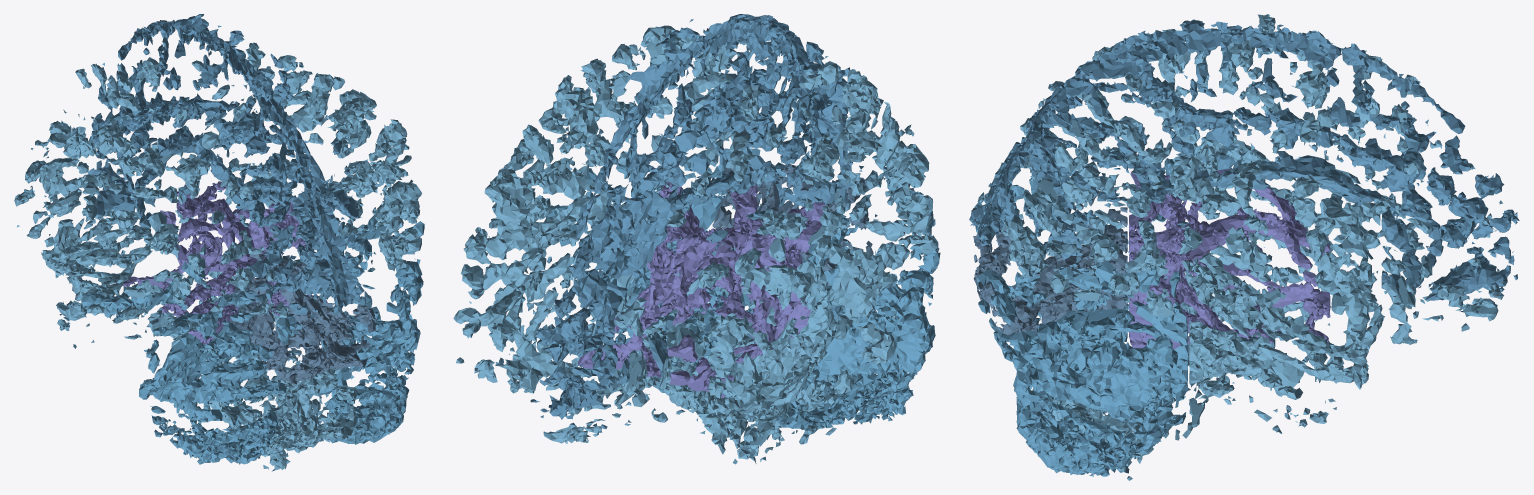
File: venat_veins.glb
The picture shows the model from 3 angles, left to right: view 1: azimuth 30°, elevation 25°; view 2: azimuth 150°, elevation 25°; view 3: azimuth 270°, elevation 25°; orthographic projection. The views are drawn at different scales.
Parts seen in each view (by area): view 1: Superior sagittal sinus and parasagittal bridging veins (VEN, Left superficial cortical and Sylvian veins (VENAT 7T), Right superficial cortical and Sylvian veins (VENAT 7T), Left transverse and sigmoid sinus (VENAT 7T), Right transverse and sigmoid sinus (VENAT 7T), Deep cerebral venous system — internal cerebral, Rosenthal &, Straight sinus and torcular Herophili (VENAT 7T); view 2: Left superficial cortical and Sylvian veins (VENAT 7T), Superior sagittal sinus and parasagittal bridging veins (VEN, Right superficial cortical and Sylvian veins (VENAT 7T), Deep cerebral venous system — internal cerebral, Rosenthal &, Left transverse and sigmoid sinus (VENAT 7T), Right transverse and sigmoid sinus (VENAT 7T), Straight sinus and torcular Herophili (VENAT 7T); view 3: Right superficial cortical and Sylvian veins (VENAT 7T), Superior sagittal sinus and parasagittal bridging veins (VEN, Right transverse and sigmoid sinus (VENAT 7T), Left superficial cortical and Sylvian veins (VENAT 7T), Deep cerebral venous system — internal cerebral, Rosenthal &, Straight sinus and torcular Herophili (VENAT 7T), Left transverse and sigmoid sinus (VENAT 7T).
Boxes of the visible parts, x1,y1,x2,y2 form: Superior sagittal sinus and parasagittal bridging veins (VEN: (58, 14, 372, 329); Left superficial cortical and Sylvian veins (VENAT 7T): (14, 57, 317, 469); Right superficial cortical and Sylvian veins (VENAT 7T): (111, 42, 421, 471); Left transverse and sigmoid sinus (VENAT 7T): (81, 261, 298, 464); Right transverse and sigmoid sinus (VENAT 7T): (286, 214, 424, 444); Deep cerebral venous system — internal cerebral, Rosenthal &: (123, 176, 327, 344); Straight sinus and torcular Herophili (VENAT 7T): (230, 237, 377, 386); Left superficial cortical and Sylvian veins (VENAT 7T): (564, 61, 937, 461); Superior sagittal sinus and parasagittal bridging veins (VEN: (499, 14, 889, 429); Right superficial cortical and Sylvian veins (VENAT 7T): (453, 25, 782, 464); Deep cerebral venous system — internal cerebral, Rosenthal &: (578, 182, 824, 397); Left transverse and sigmoid sinus (VENAT 7T): (775, 172, 940, 429); Right transverse and sigmoid sinus (VENAT 7T): (543, 148, 786, 395); Straight sinus and torcular Herophili (VENAT 7T): (712, 164, 885, 288); Right superficial cortical and Sylvian veins (VENAT 7T): (1001, 83, 1503, 480); Superior sagittal sinus and parasagittal bridging veins (VEN: (969, 19, 1519, 303); Right transverse and sigmoid sinus (VENAT 7T): (976, 260, 1188, 476); Left superficial cortical and Sylvian veins (VENAT 7T): (977, 14, 1502, 434); Deep cerebral venous system — internal cerebral, Rosenthal &: (1129, 169, 1330, 349); Straight sinus and torcular Herophili (VENAT 7T): (970, 190, 1127, 335); Left transverse and sigmoid sinus (VENAT 7T): (972, 158, 1186, 375).
Size of the model in its own units: 6.24 by 7.44 by 8.13.
